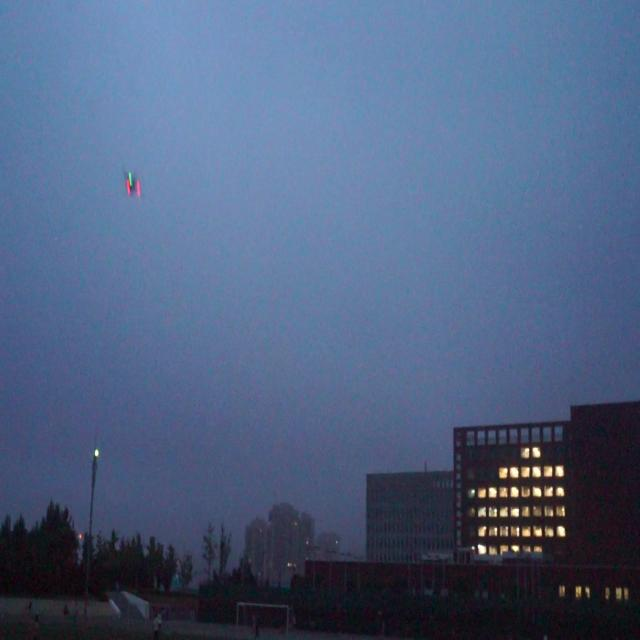UAV: (123, 171, 141, 197)
